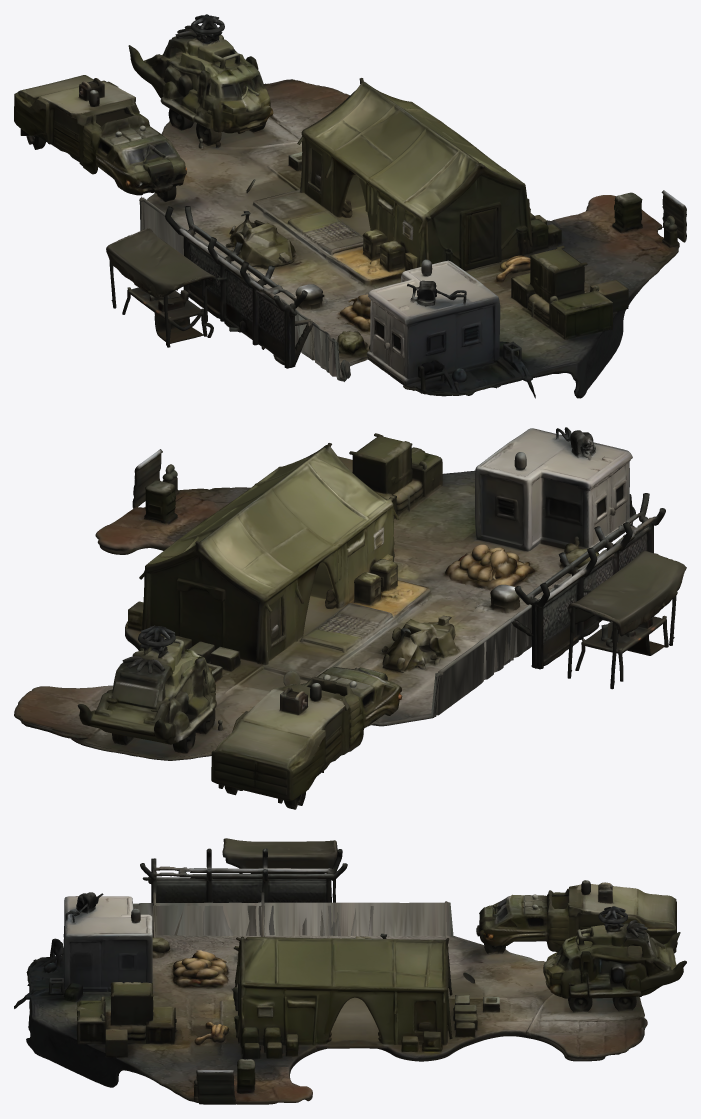
Rendered from camp.fbx.
3 renders of one model, top to bottom at view 1: azimuth 30°, elevation 25°; view 2: azimuth 150°, elevation 25°; view 3: azimuth 270°, elevation 25°, orthographic. The views are drawn at different scales.
Parts seen in each view (by area): view 1: tripo_node_92164739; view 2: tripo_node_92164739; view 3: tripo_node_92164739.
Boxes of the visible parts, x1,y1,x2,y2 form: tripo_node_92164739: (14,14,686,398); tripo_node_92164739: (14,427,686,809); tripo_node_92164739: (14,838,686,1104).
Bounding box in the file's own units: 73.42 × 20.91 × 98.19.
